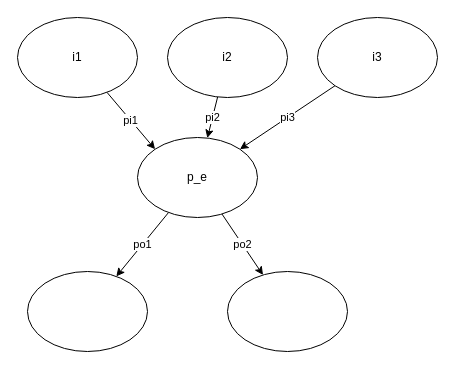
Image size: 455x369. Some labels were removed from this diagram. The shapes that lost their labels are listed below. From the top down, each one's box as (x1, y1, x2, y2) in pixels, then its label:
(26, 270, 148, 352): o1
(226, 270, 348, 352): o2
